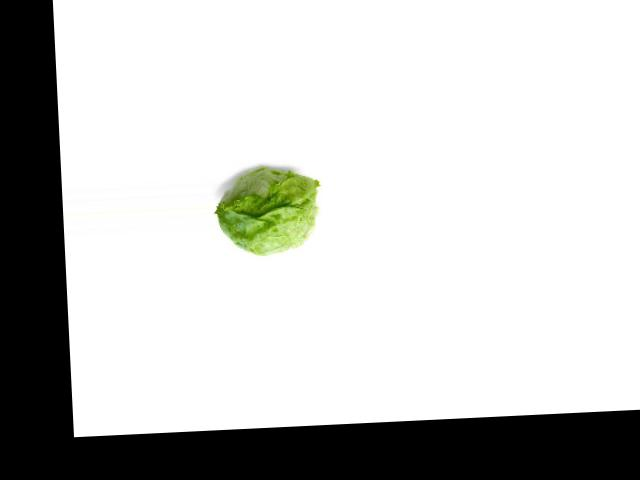lettuce: (214, 159, 321, 264)
